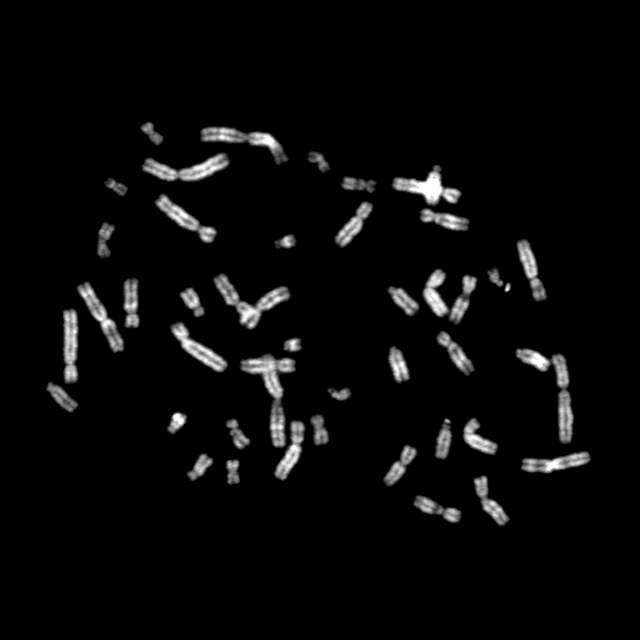chromosome: (77, 282, 125, 352), (200, 128, 288, 166), (155, 194, 217, 243), (170, 323, 228, 373), (143, 154, 230, 182), (261, 354, 285, 446), (214, 275, 258, 325), (242, 287, 290, 329), (552, 354, 574, 442), (474, 476, 510, 526), (275, 420, 305, 480), (392, 178, 460, 204), (334, 201, 372, 247), (518, 240, 546, 300), (436, 332, 474, 376), (450, 274, 478, 324), (382, 446, 416, 486), (521, 453, 591, 472), (413, 496, 461, 522), (464, 418, 498, 454), (420, 209, 470, 233), (423, 270, 449, 316), (62, 311, 78, 384), (46, 382, 78, 412), (388, 286, 419, 316), (516, 348, 550, 372), (123, 279, 139, 327), (388, 346, 408, 382), (180, 287, 204, 317), (226, 419, 250, 448), (240, 360, 296, 372), (426, 165, 442, 205), (435, 419, 451, 458), (188, 454, 212, 480), (97, 224, 115, 258), (310, 415, 330, 445), (343, 176, 375, 194), (141, 123, 163, 145), (308, 152, 329, 172), (167, 412, 187, 433), (105, 178, 127, 196), (226, 460, 240, 484), (488, 269, 504, 287), (275, 234, 295, 248), (328, 388, 350, 400), (284, 338, 300, 352)
